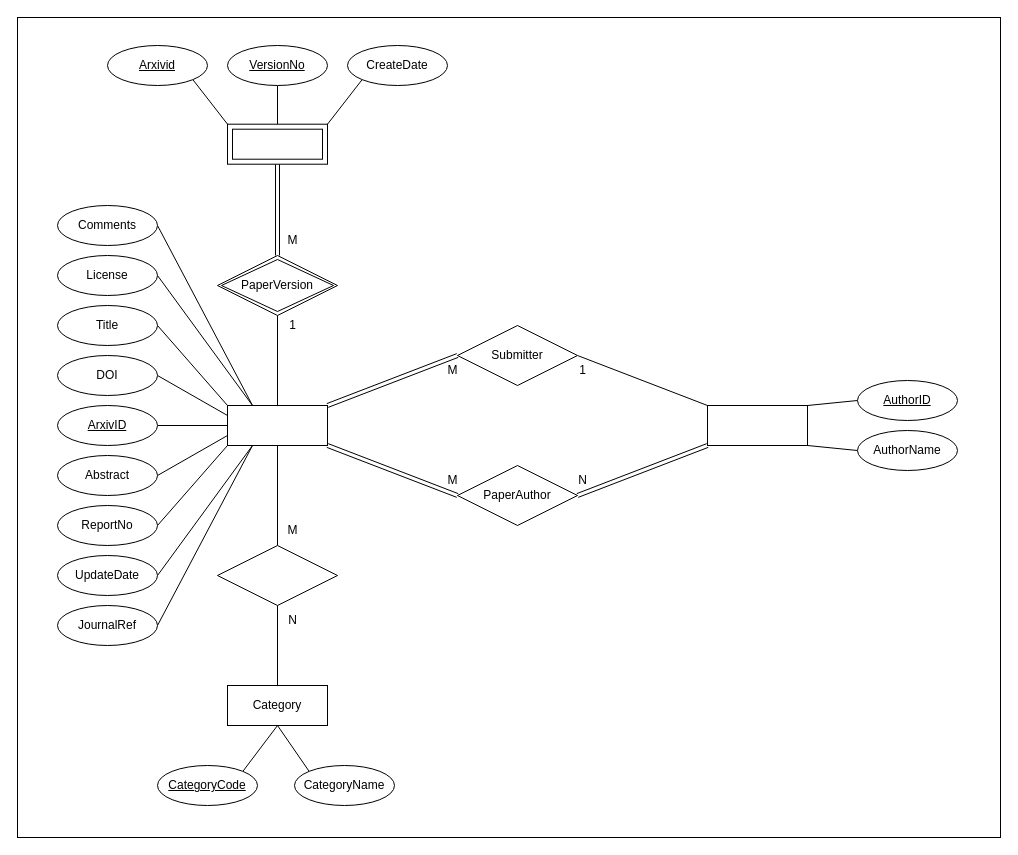
Some shapes in this 1018 by 855 pixel diagram are drawn without their labels. Each missing label, with the centre of its shape:
"Author" belongs at (x=757, y=425).
"Paper" belongs at (x=277, y=425).
"PaperCategory" belongs at (x=277, y=575).
"Version" belongs at (x=277, y=143).
